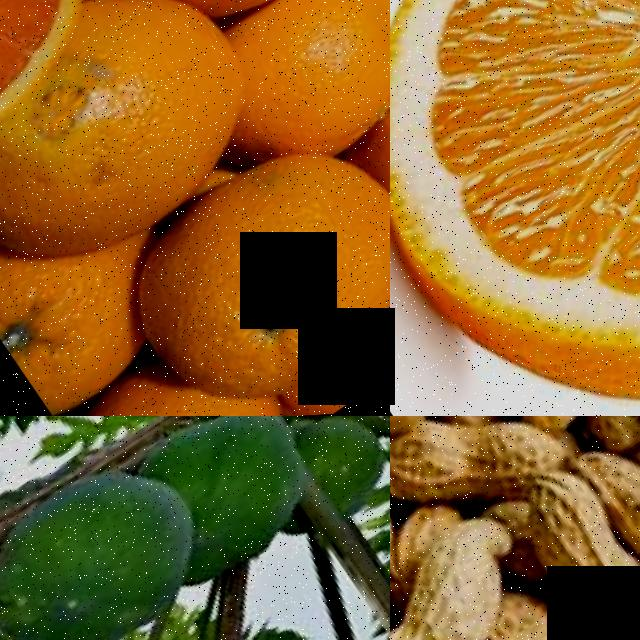orange: (390, 0, 640, 416), (86, 118, 390, 416), (0, 0, 293, 309), (206, 0, 390, 171), (0, 0, 116, 151), (335, 35, 390, 265)
pawpaw: (0, 439, 226, 640), (130, 416, 332, 582)
peanuts: (488, 453, 640, 631), (390, 416, 564, 548), (390, 507, 548, 640), (571, 421, 640, 614), (507, 578, 640, 640), (477, 416, 640, 444)
